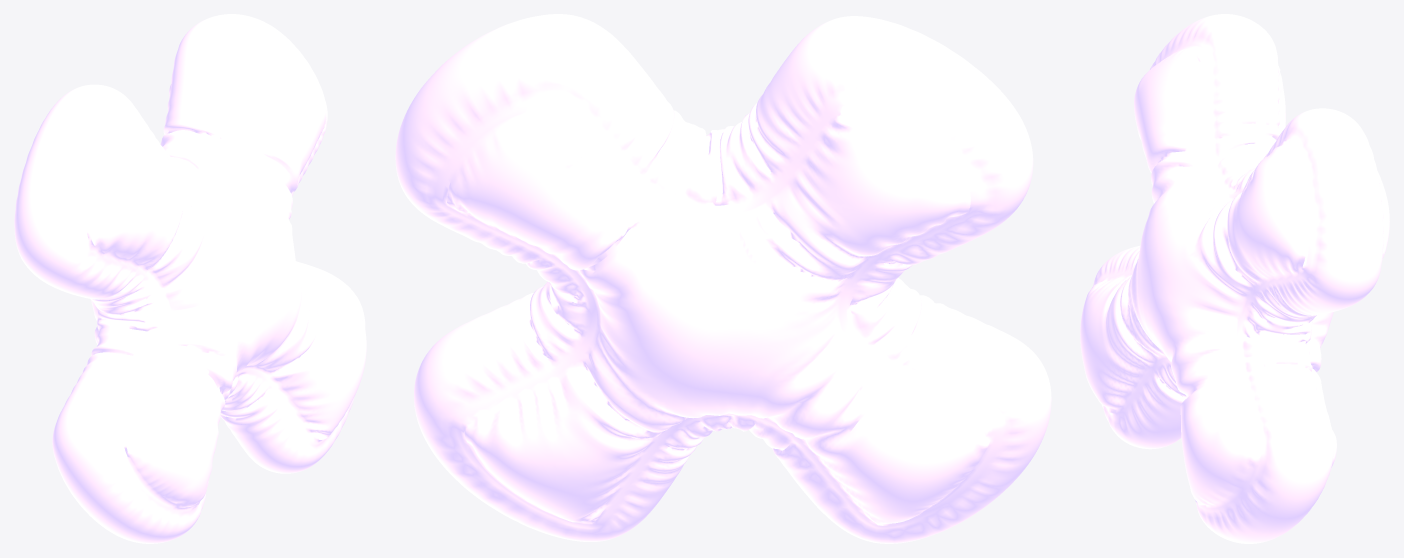
3 views of the same model, side by side, from view 1: azimuth 30°, elevation 25°; view 2: azimuth 150°, elevation 25°; view 3: azimuth 270°, elevation 25° (orthographic). The views are drawn at different scales.
Visible parts, largest first — view 1: final; view 2: final; view 3: final.
Boxes of the visible parts, x1,y1,x2,y2 form: final: (14, 14, 366, 543); final: (395, 14, 1051, 543); final: (1080, 14, 1389, 543).
Size of the model in its own units: 513 by 534 by 356.
